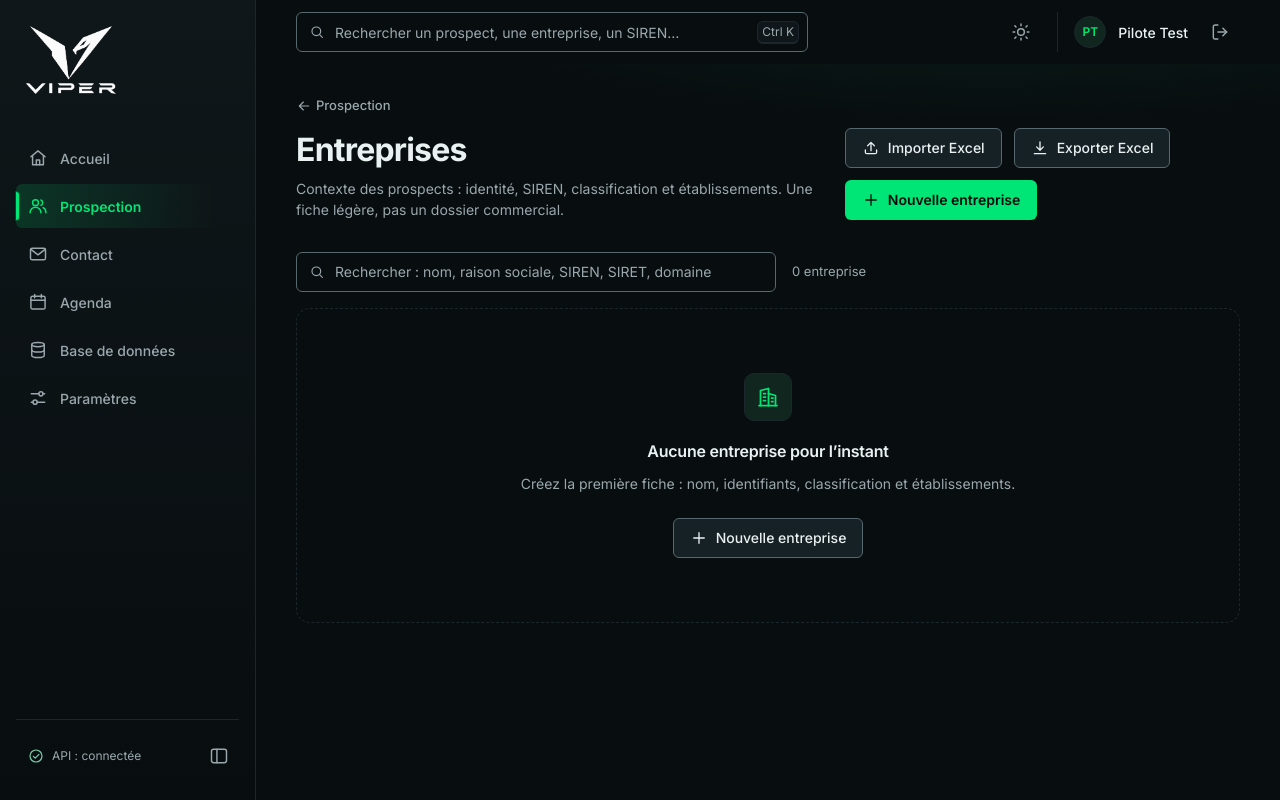
Test: Companies page › shows an empty state that creates the first company
expect the heading "Aucune entreprise pour l’instant" is shown: met, box [647, 440, 889, 460]
What coordinates should you click on to do the following:
click the button "Nouvelle entreprise" below "Aucune entreprise pour l’instant"
I would click on:
 (768, 538)
Its box is [673, 518, 863, 558].
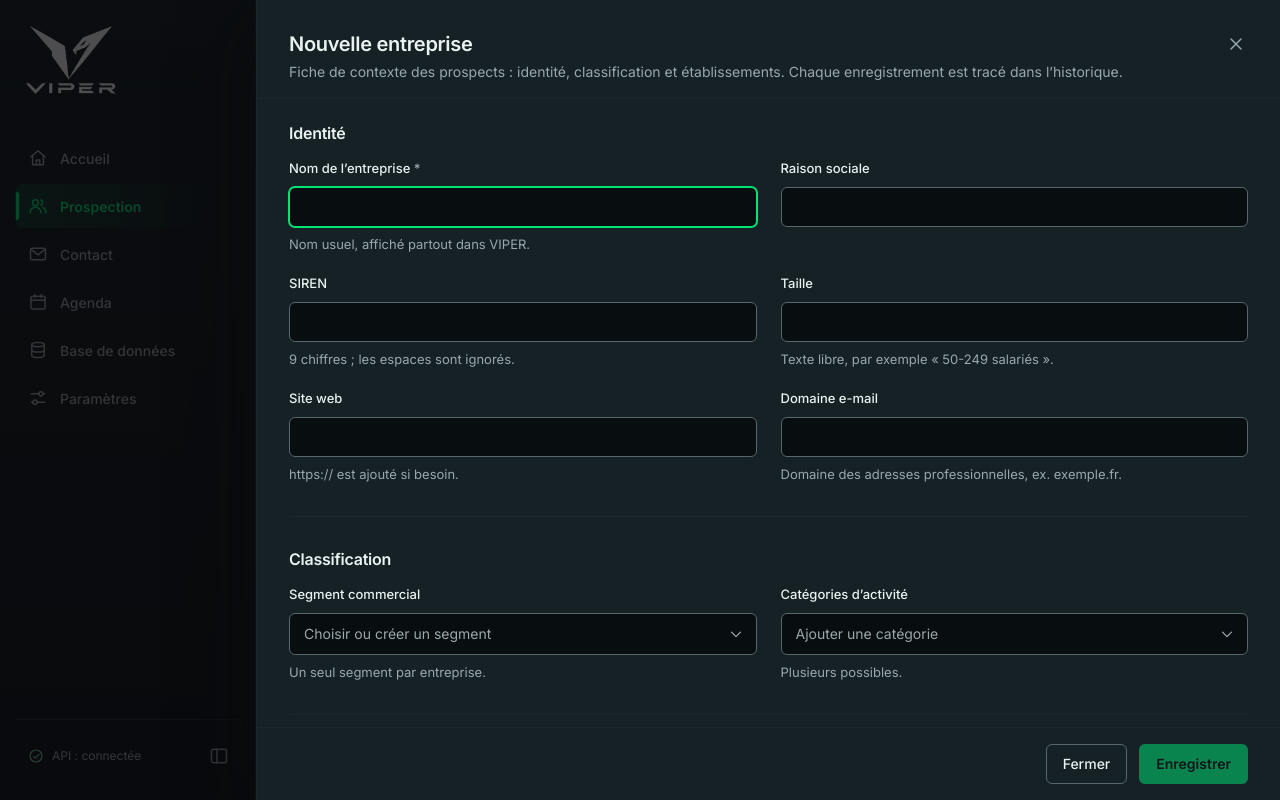
expect the dialog "Nouvelle entreprise" is shown: met
